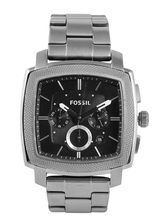watch: (19, 13, 150, 217)
